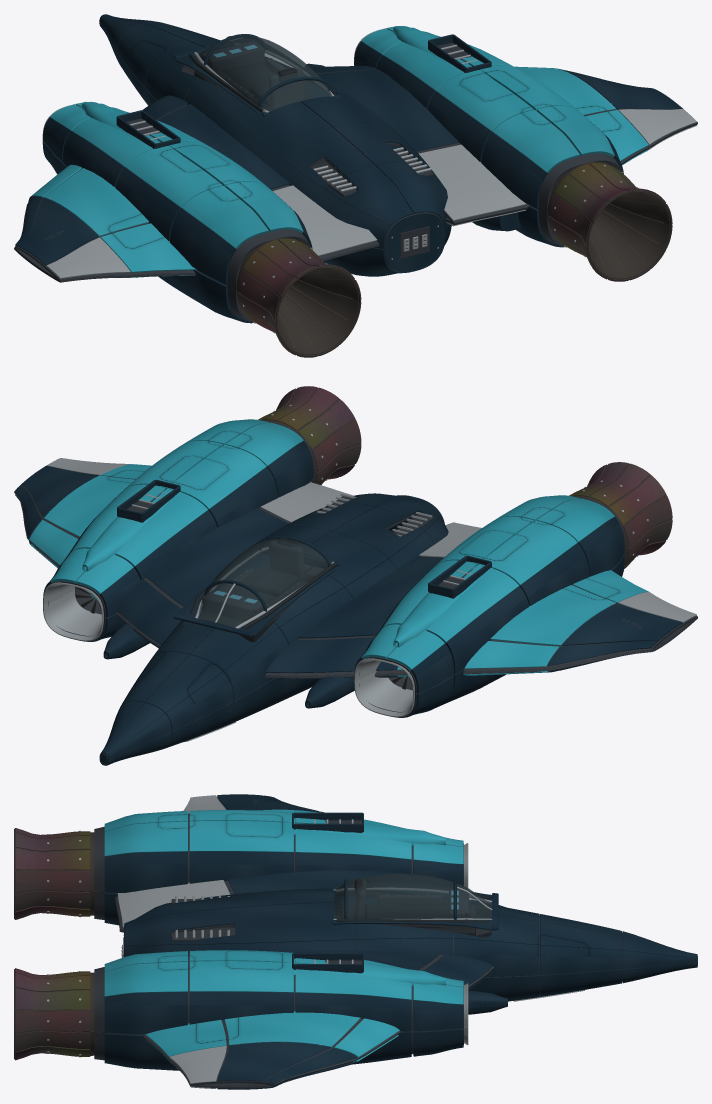
3 renders of one model, top to bottom at view 1: azimuth 30°, elevation 25°; view 2: azimuth 150°, elevation 25°; view 3: azimuth 270°, elevation 25°, orthographic. The views are drawn at different scales.
Visible parts, largest first — view 1: Aft pressure bulkhead, Fitted lifting skin.003, Fuselage fitted skin 00.0, Swept inlet guide vane, Sealed avionics connector, Aft avionics recess, Formed heat alloy nozzle petal, Thin laminated canopy glazing, Connector protected contact, Load-bearing shoulder fairing.001, Pressure hull substrate; view 2: Aft pressure bulkhead, Fitted lifting skin.003, Fuselage fitted skin 00.0, Sealed avionics connector, Formed heat alloy nozzle petal, Aft avionics recess, Thin laminated canopy glazing, Load-bearing shoulder fairing.001, Connector protected contact, Swept inlet guide vane; view 3: Aft pressure bulkhead, Fitted lifting skin.003, Fuselage fitted skin 00.0, Formed heat alloy nozzle petal, Aft avionics recess, Sealed avionics connector, Thin laminated canopy glazing, Load-bearing shoulder fairing.001, Connector protected contact, Swept inlet guide vane, Pressure hull substrate.
Boxes of the visible parts, x1,y1,x2,y2 form: Aft pressure bulkhead: (15,14,682,323); Fitted lifting skin.003: (30,26,648,277); Fuselage fitted skin 00.0: (145,38,448,249); Swept inlet guide vane: (236,162,672,357); Sealed avionics connector: (42,27,696,333); Aft avionics recess: (14,41,697,323); Formed heat alloy nozzle petal: (237,162,672,357); Thin laminated canopy glazing: (198,36,331,111); Connector protected contact: (189,54,426,248); Load-bearing shoulder fairing.001: (82,26,491,154); Pressure hull substrate: (181,57,444,271); Aft pressure bulkhead: (15,441,682,765); Fitted lifting skin.003: (29,419,648,677); Fuselage fitted skin 00.0: (151,493,448,700); Sealed avionics connector: (43,404,696,741); Formed heat alloy nozzle petal: (258,386,672,568); Aft avionics recess: (14,420,697,712); Thin laminated canopy glazing: (197,538,331,627); Load-bearing shoulder fairing.001: (82,476,492,647); Connector protected contact: (189,538,337,642); Swept inlet guide vane: (75,387,672,689); Aft pressure bulkhead: (104,794,697,1089); Fitted lifting skin.003: (104,809,463,1062); Fuselage fitted skin 00.0: (124,888,539,976); Formed heat alloy nozzle petal: (15,828,90,1060); Aft avionics recess: (94,796,494,1088); Sealed avionics connector: (47,795,584,1088); Thin laminated canopy glazing: (334,873,491,919); Load-bearing shoulder fairing.001: (280,818,445,985); Connector protected contact: (121,879,489,955); Swept inlet guide vane: (14,828,94,1059); Pressure hull substrate: (124,891,697,994).
Bounding box in the file's own units: 3.41 × 0.7099 × 3.42.
Materials: 9 (3 with a texture image).
